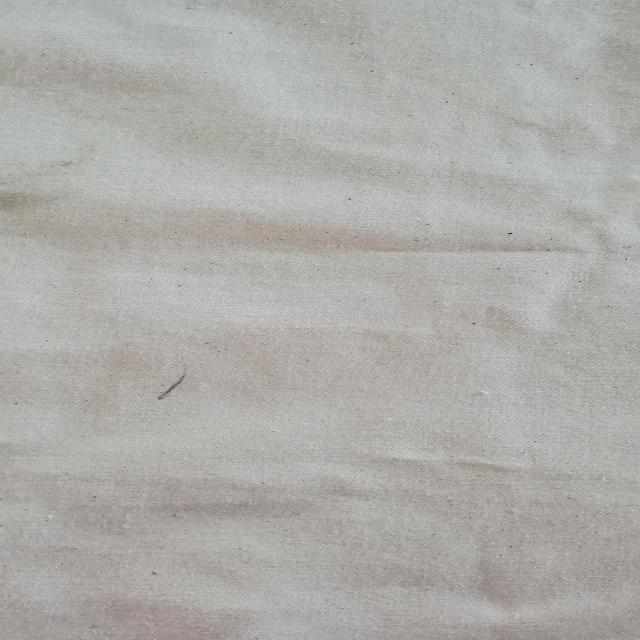taaaches: (0, 178, 76, 220), (137, 363, 205, 398)
